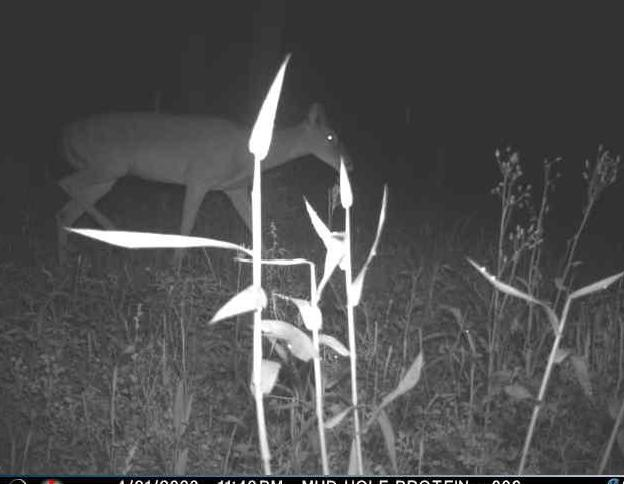Deer: (49, 101, 358, 261)
